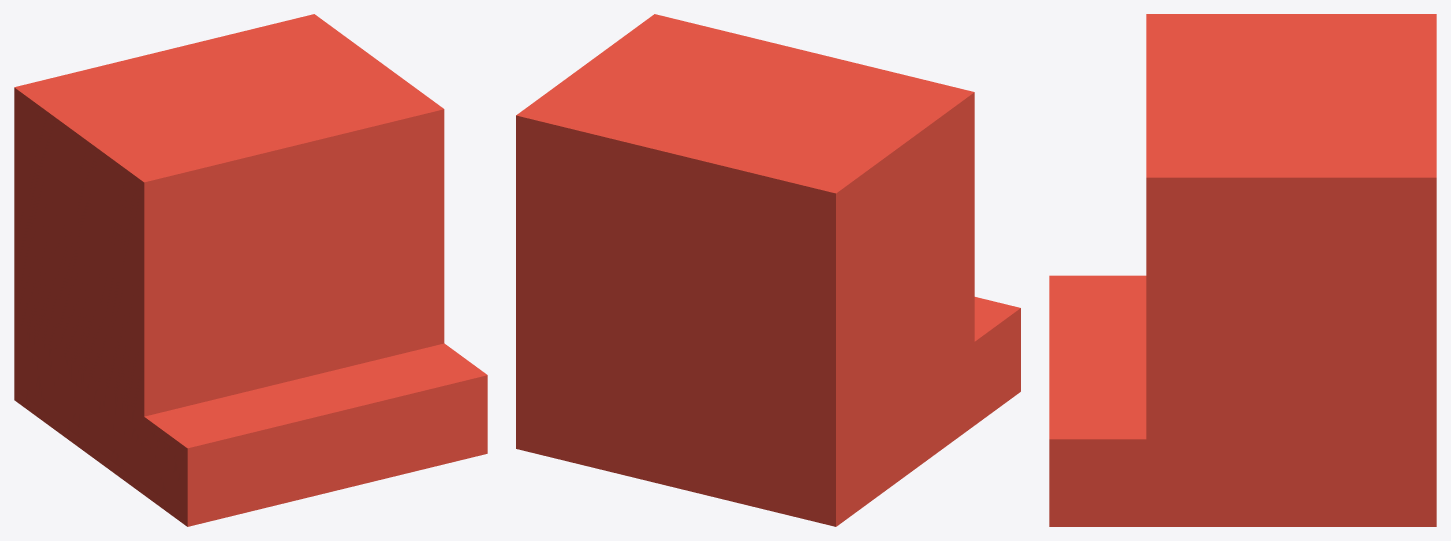
The model's file is Wall_Bottom_03.fbx.
3 renders of one model, left to right at view 1: azimuth 30°, elevation 25°; view 2: azimuth 150°, elevation 25°; view 3: azimuth 270°, elevation 25°, orthographic. The views are drawn at different scales.
Parts seen in each view (by area): view 1: Cube.337; view 2: Cube.337; view 3: Cube.337.
Part boxes in pixels (<box>): Cube.337: <box>14,14,487,526</box>; Cube.337: <box>516,14,1020,526</box>; Cube.337: <box>1049,14,1436,526</box>.
Bounding box in the file's own units: 100 × 99.54 × 100.
